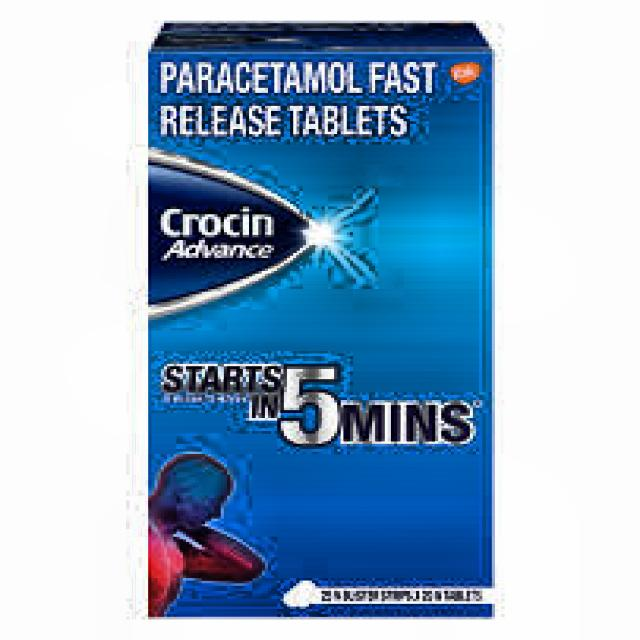Crocin: (143, 150, 340, 364)
